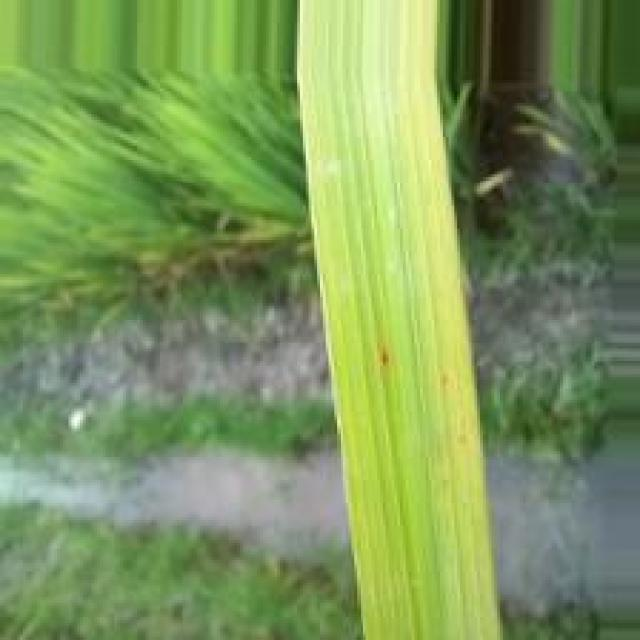Brown_Spot: (380, 346, 391, 368)
